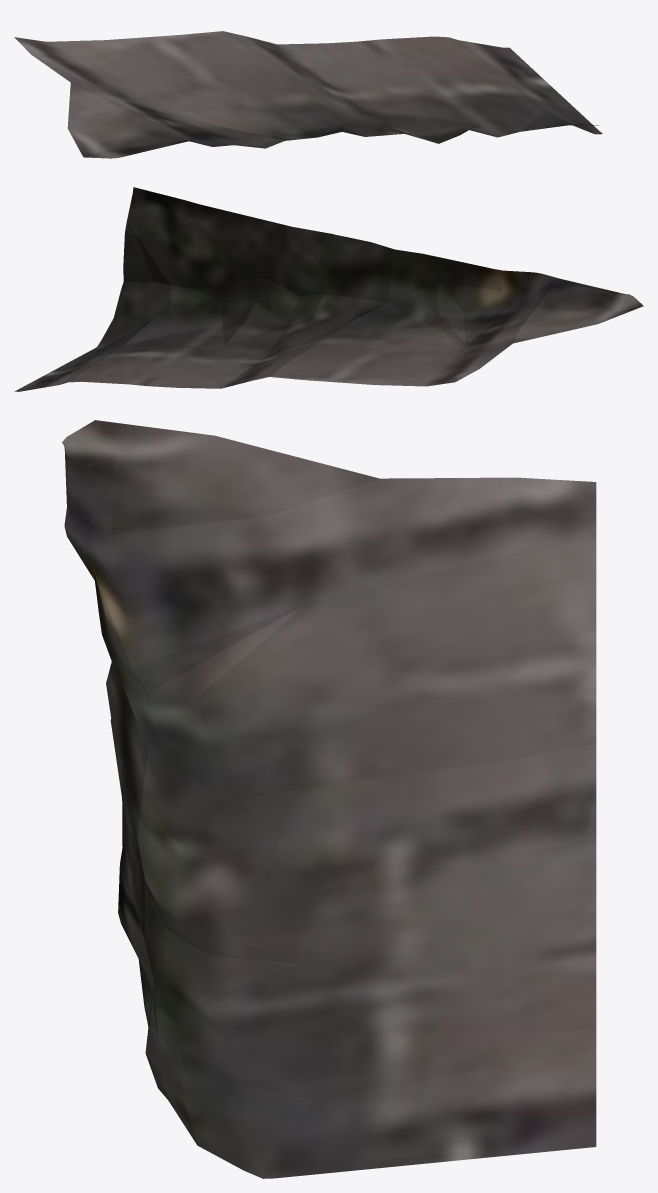
3 views of the same model, one above another, from view 1: azimuth 30°, elevation 25°; view 2: azimuth 150°, elevation 25°; view 3: azimuth 270°, elevation 25° (orthographic). The views are drawn at different scales.
Size of the model in its own units: 1.19 by 0.299 by 0.5441.
1 material, 1 textured.
